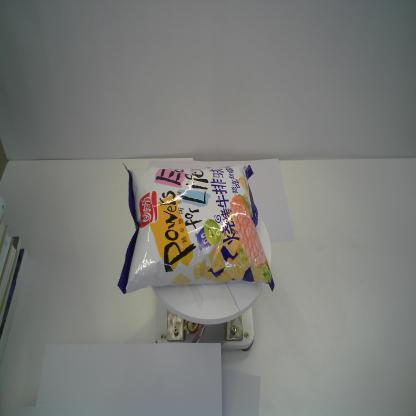Puffed Food: (116, 157, 275, 295)
